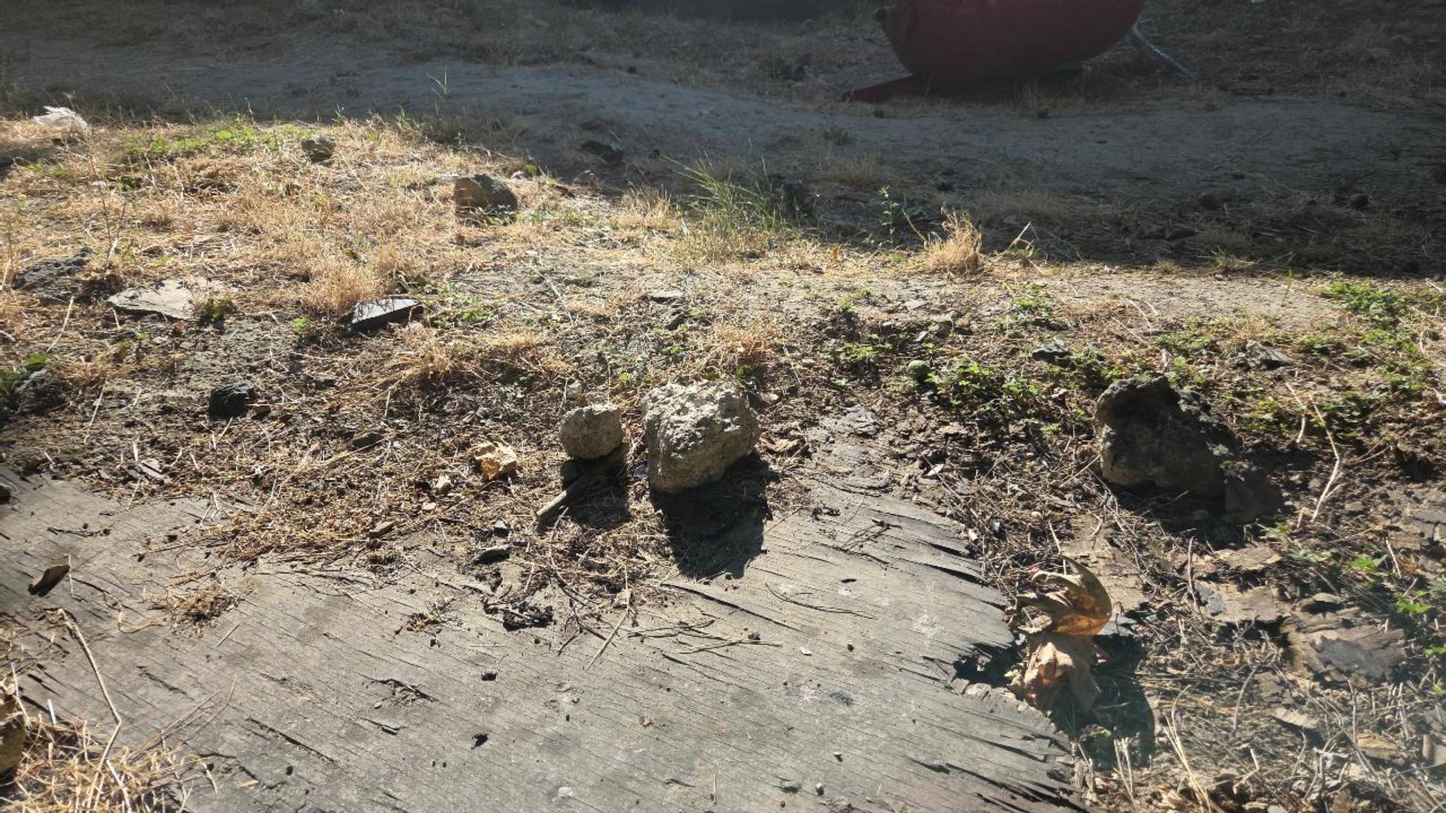rock: (1096, 375, 1232, 496), (643, 381, 757, 492), (1223, 461, 1282, 523), (559, 403, 622, 457), (107, 280, 193, 318), (347, 297, 421, 331), (453, 174, 517, 212), (208, 381, 256, 418), (1030, 340, 1071, 365), (299, 138, 333, 163)
